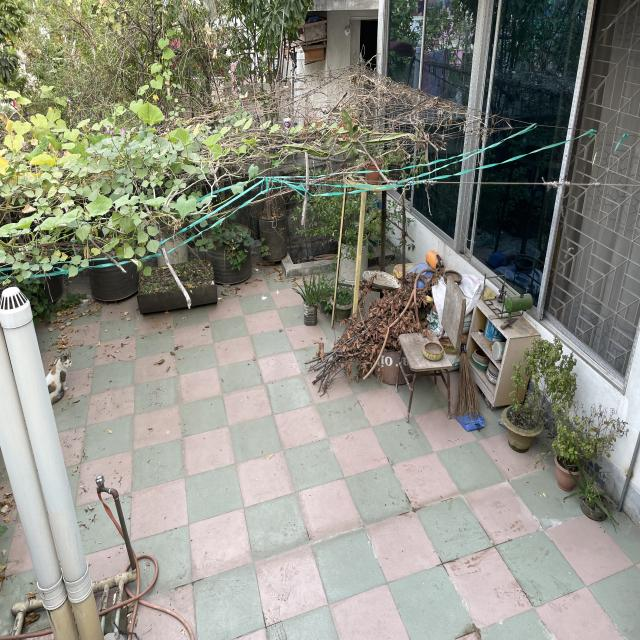Breeding Place: (141, 261, 224, 311), (201, 218, 254, 285), (506, 394, 543, 452), (257, 192, 285, 266), (555, 438, 580, 499), (581, 480, 612, 523), (365, 269, 406, 295), (422, 340, 448, 365)
